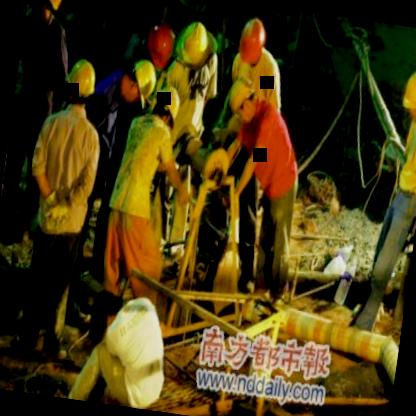helmet: (172, 19, 219, 77), (118, 53, 160, 108), (138, 22, 176, 74), (60, 58, 98, 108), (234, 16, 270, 68), (147, 80, 183, 128), (224, 76, 262, 119), (396, 66, 416, 125), (29, 0, 66, 19)
